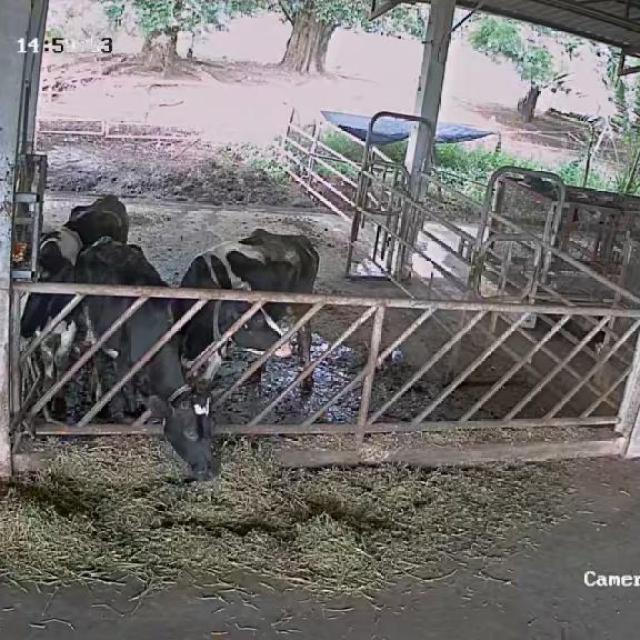feeding: (79, 242, 224, 487)
standing: (180, 230, 320, 392), (24, 190, 127, 408)
